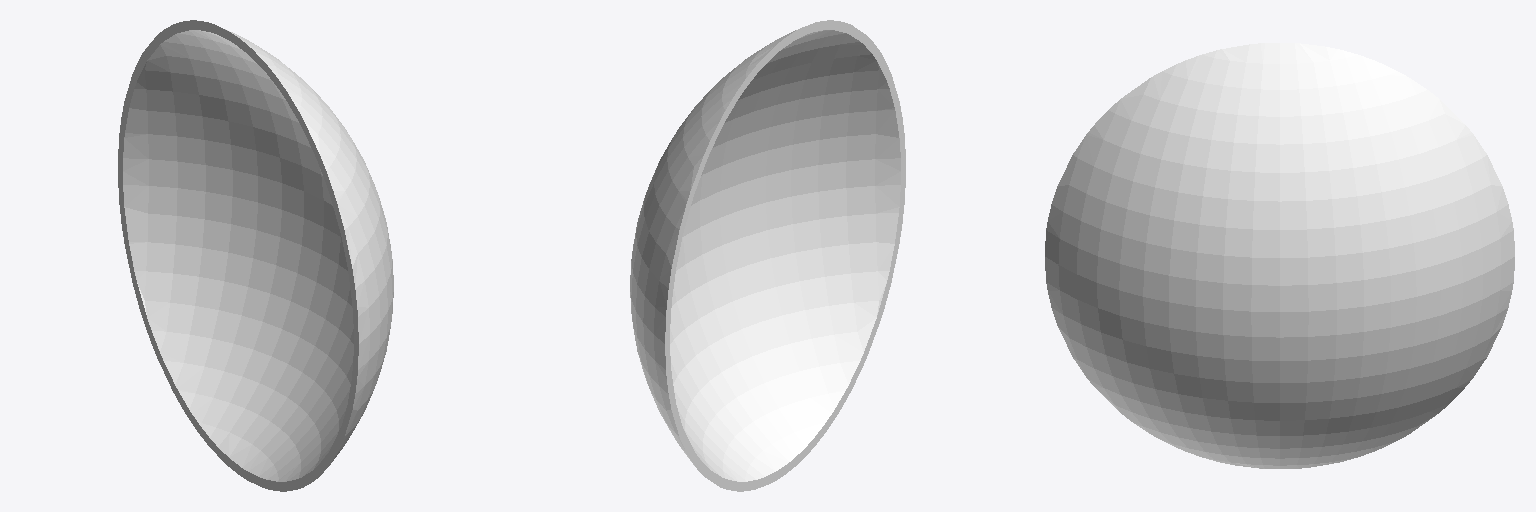
The robot description file, URDF, robot "eyelid_left":
<?xml version="1.0" encoding="utf-8"?>
<!-- This URDF was automatically created by SolidWorks to URDF Exporter! Originally created by [author] ([email redacted]) 
     Commit Version: 1.6.0-4-g7f85cfe  Build Version: 1.6.7995.38578
     For more information, please see http://wiki.ros.org/sw_urdf_exporter -->
<robot
  name="eyelid_left">
  <link
    name="base_link">
    <inertial>
      <origin
        xyz="0.0123769991188436 1.42919452308997E-17 6.27107821657866E-18"
        rpy="0 0 0" />
      <mass
        value="0.000395712149004729" />
      <inertia
        ixx="4.19474952732173E-08"
        ixy="4.19588598544019E-24"
        ixz="2.9259424351267E-24"
        iyy="2.29591936075884E-08"
        iyz="-5.35343872685221E-15"
        izz="2.29588923461701E-08" />
    </inertial>
    <visual>
      <origin
        xyz="0 0 0"
        rpy="0 0 0" />
      <geometry>
        <mesh
          filename="package://head_sim/meshes/eyelid.STL" />
      </geometry>
      <material
        name="">
        <color
          rgba="1 1 1 1" />
      </material>
    </visual>
    <collision>
      <origin
        xyz="0 0 0"
        rpy="0 0 0" />
      <geometry>
        <mesh
          filename="package://head_sim/meshes/eyelid.STL" />
      </geometry>
    </collision>
    <!-- <collision>
      <origin
        xyz="0.05 0 0"
        rpy="0 0 0" />
      <geometry>
        <sphere radius="0.001" />
      </geometry>
    </collision> -->
  </link>
  
  <gazebo reference="base_link">
    <material>Gazebo/Grey</material>
    <gravity>false</gravity>
  </gazebo>

  <!-- <link name="world" />
  <joint name="fixed" type="fixed">
    <parent link="world" />
    <child link="base_link" />
    <origin xyz="0.029149 -0.03065 0.157526" rpy="0 0 0" />
  </joint> -->

</robot>

--- Facts derived from the render (not from the file) ---
3 views of the same robot in one strip: view 1: azimuth 30°, elevation 25°; view 2: azimuth 150°, elevation 25°; view 3: azimuth 270°, elevation 25° (orthographic).
Robot: eyelid_left — 1 links, 0 joints (none); root link base_link; default pose: all joints at 0.
Links seen in each view (by area): view 1: base_link; view 2: base_link; view 3: base_link.
Link boxes in pixels (x1,y1,x2,y2): base_link: (118,20,393,491); base_link: (630,20,905,491); base_link: (1045,43,1514,468).
Size in the robot's own frame: 0.008 by 0.0283 by 0.0283 metres.
1 mesh visuals loaded from 1 distinct referenced files (1 binary STL).